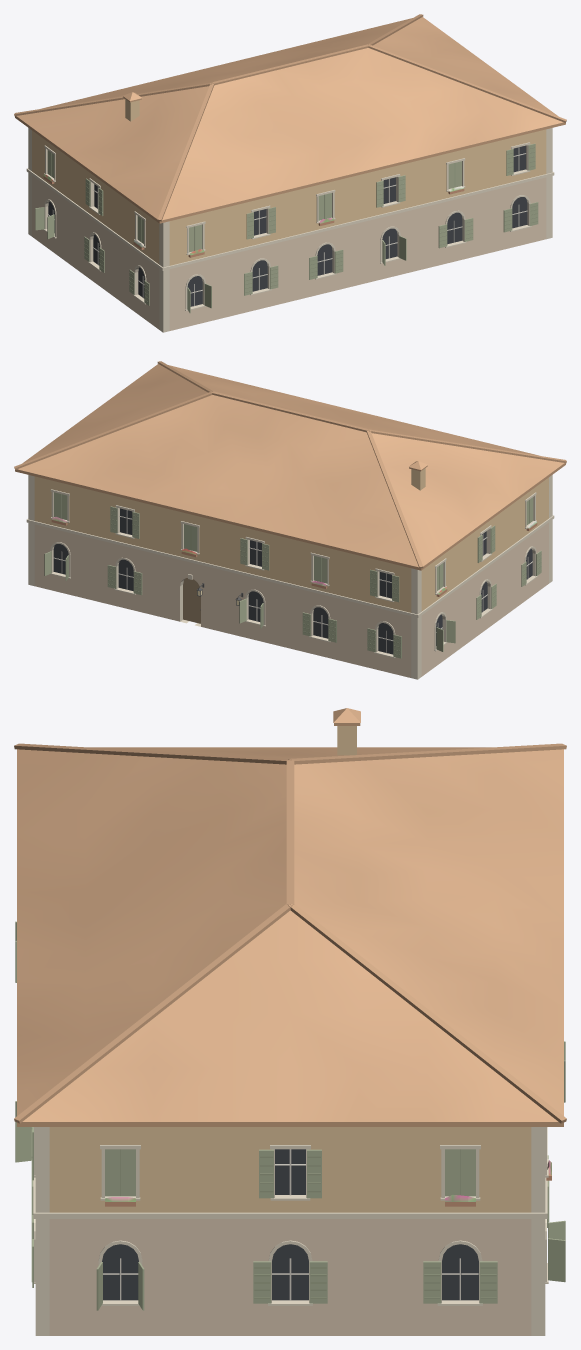
File: SM_BM_BHip_MembersBar.glb
3 views of the same model, one above another, from view 1: azimuth 30°, elevation 25°; view 2: azimuth 150°, elevation 25°; view 3: azimuth 270°, elevation 25° (orthographic). The views are drawn at different scales.
Parts seen in each view (by area): view 1: SM_BM_BHip_MembersBar; view 2: SM_BM_BHip_MembersBar; view 3: SM_BM_BHip_MembersBar.
Boxes of the visible parts, x1,y1,x2,y2 form: SM_BM_BHip_MembersBar: [14, 14, 566, 332]; SM_BM_BHip_MembersBar: [14, 361, 566, 679]; SM_BM_BHip_MembersBar: [14, 708, 566, 1335].
Bounding box in the file's own units: 31.52 × 12.64 × 19.52.
